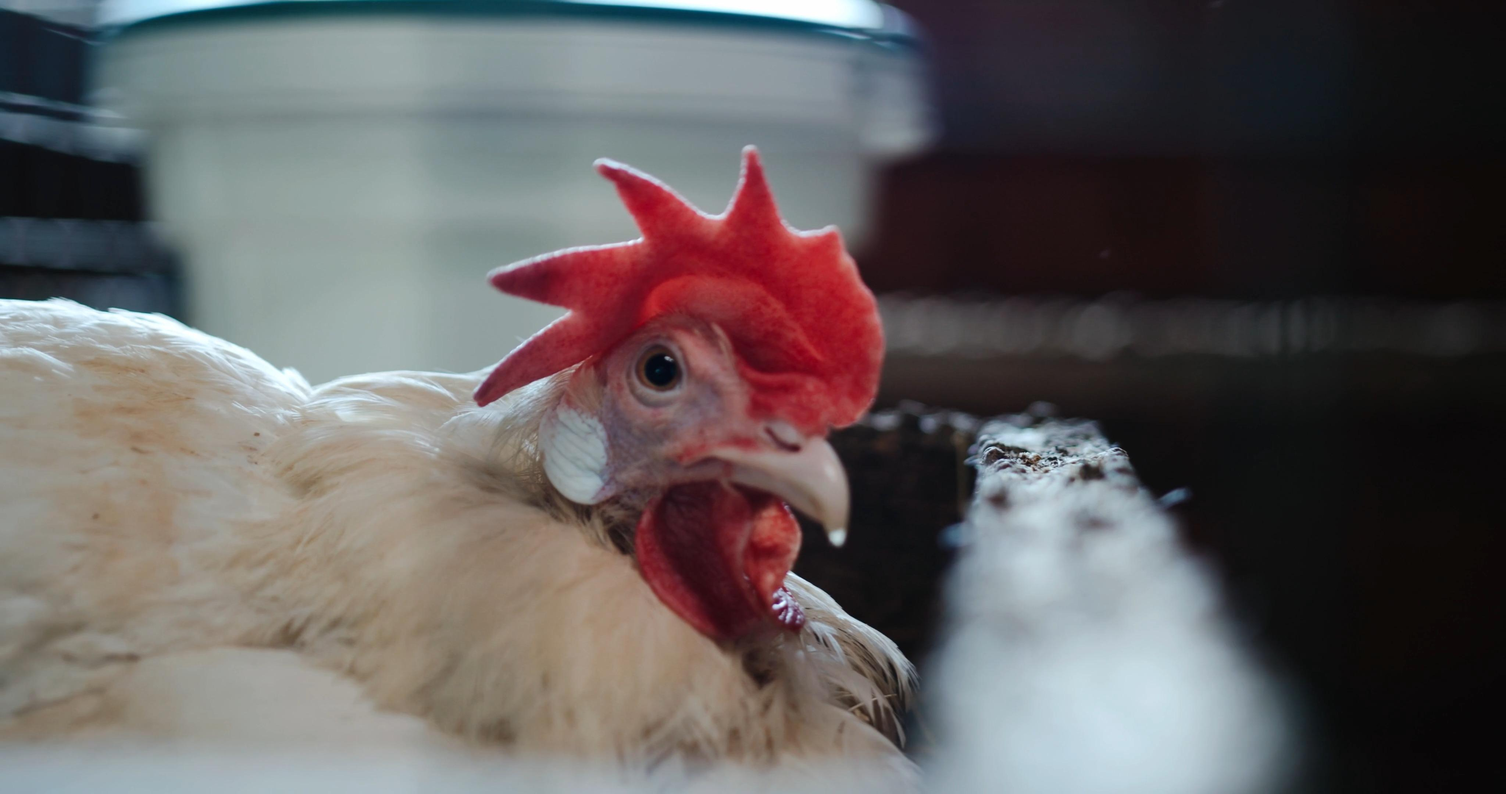Normal: (133, 160, 894, 791)
